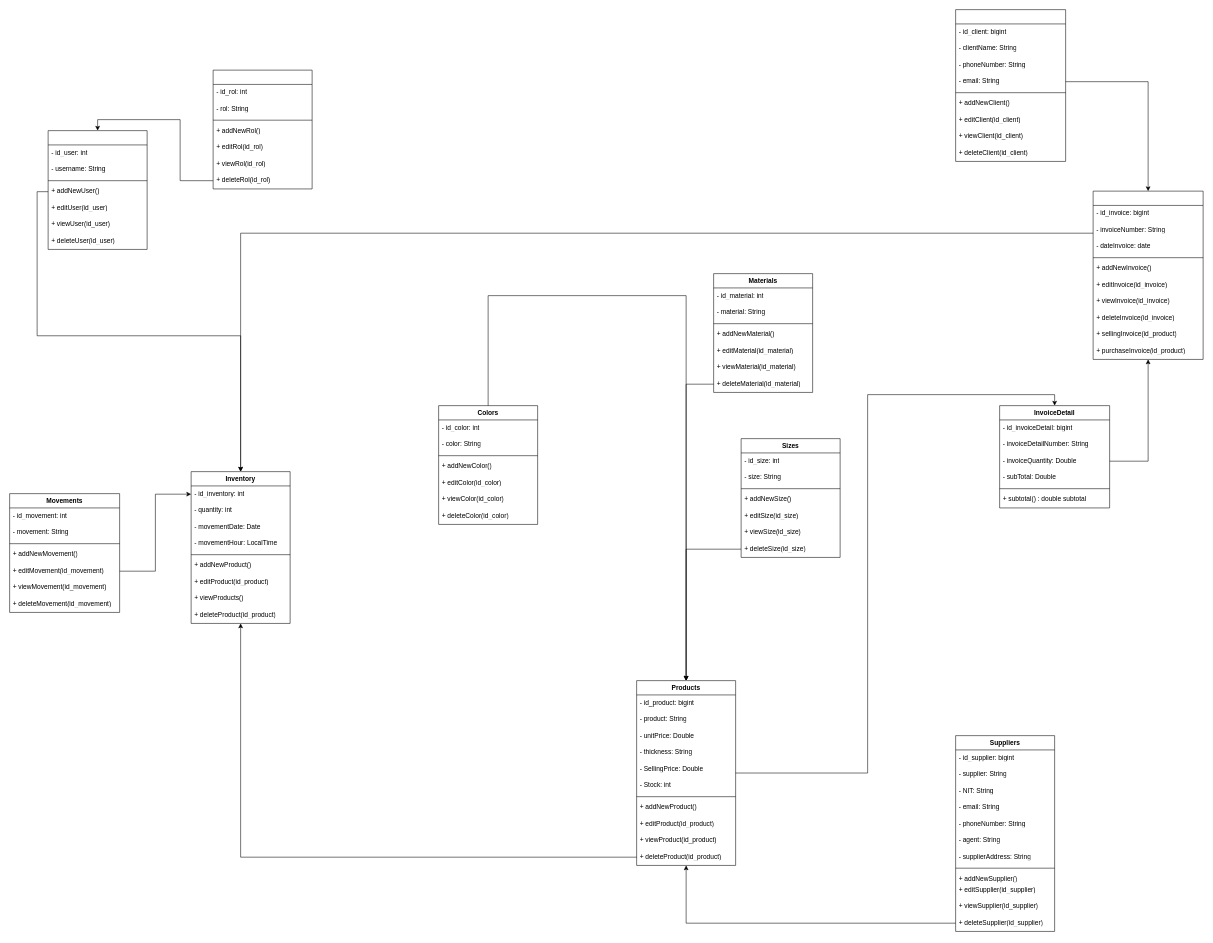
Image size: 1213x943. Some labels were removed from this diagram. The shapes that lost their labels are listed below. From the top down, each one's box as (x1, y1, x2, y2) in pixels, then its label:
(955, 9, 1066, 161): Clients
(213, 70, 312, 189): Roles
(48, 130, 147, 249): Users
(1093, 191, 1203, 359): InvoiceHeader
